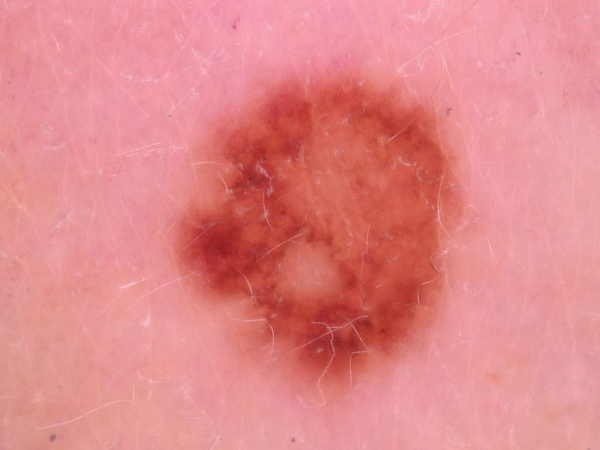Detected Lesion: (166, 67, 466, 382)
